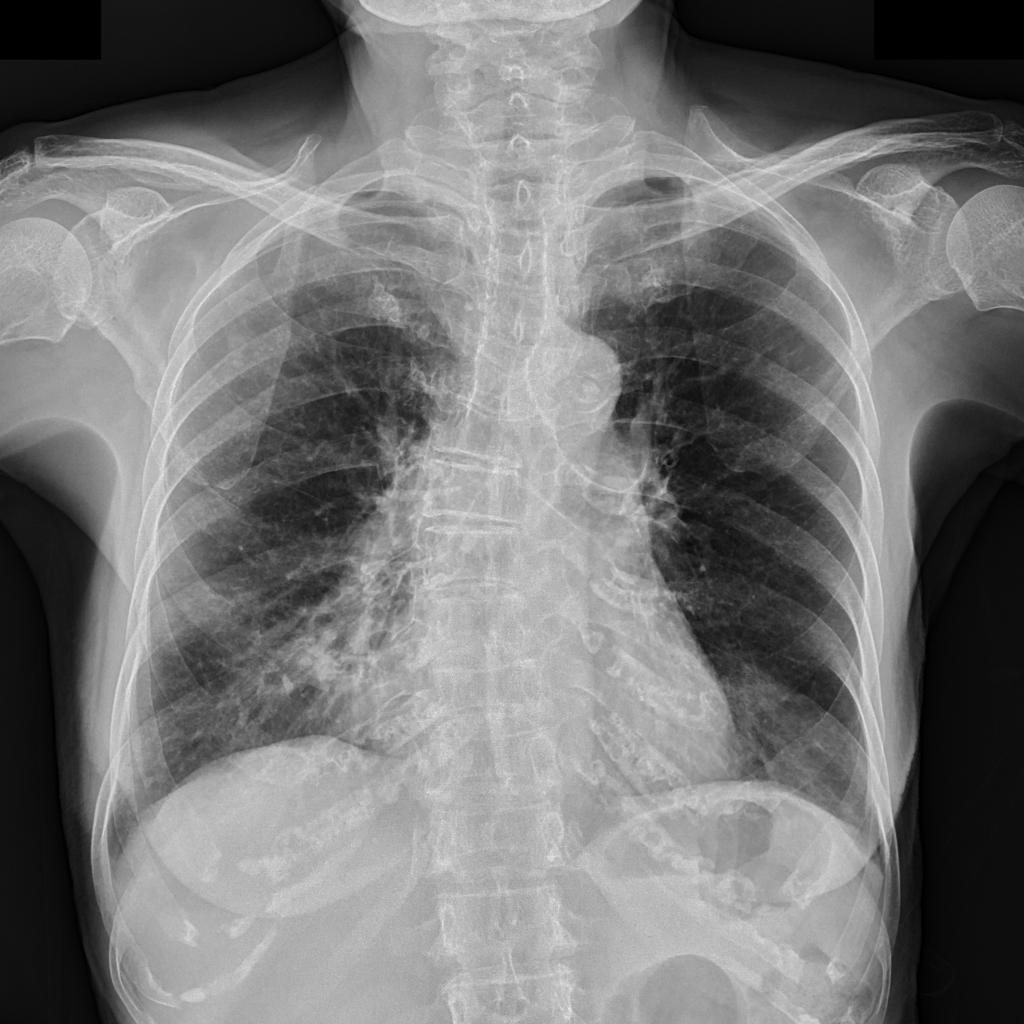Nodule: (225, 334, 250, 357), (234, 359, 246, 368)
